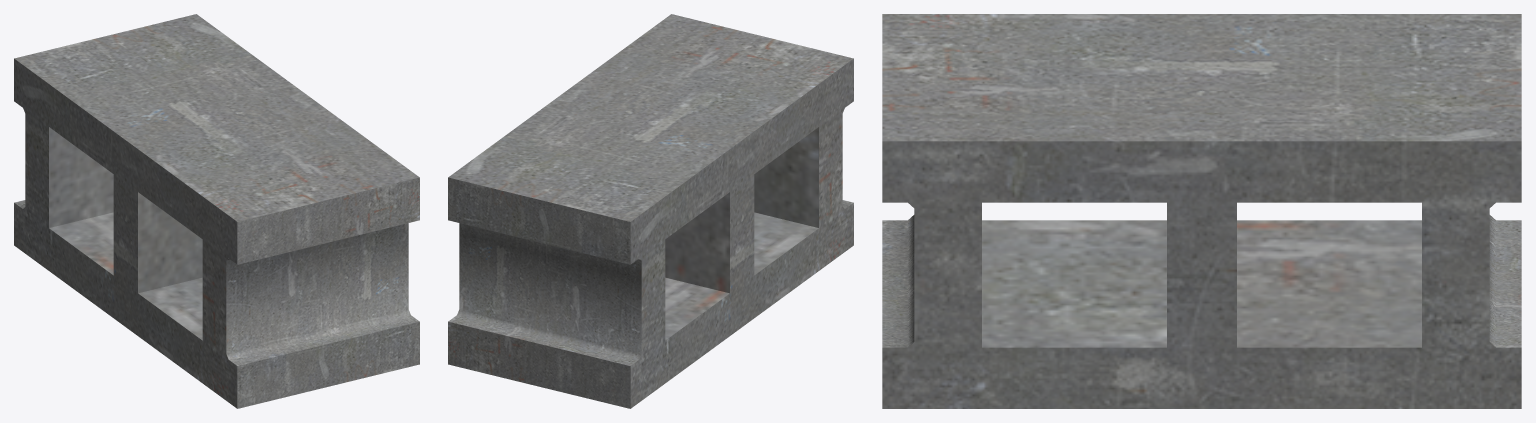
The model's file is CinderBlock.fbx.
The picture shows the model from 3 angles, left to right: view 1: azimuth 30°, elevation 25°; view 2: azimuth 150°, elevation 25°; view 3: azimuth 270°, elevation 25°; orthographic projection. The views are drawn at different scales.
Visible parts, largest first — view 1: Cube; view 2: Cube; view 3: Cube.
Boxes of the visible parts, x1,y1,x2,y2 form: Cube: (14, 14, 419, 408); Cube: (448, 14, 853, 408); Cube: (882, 14, 1521, 408).
Size of the model in its own units: 218 by 214 by 462.
Materials: 1 (1 with a texture image).
